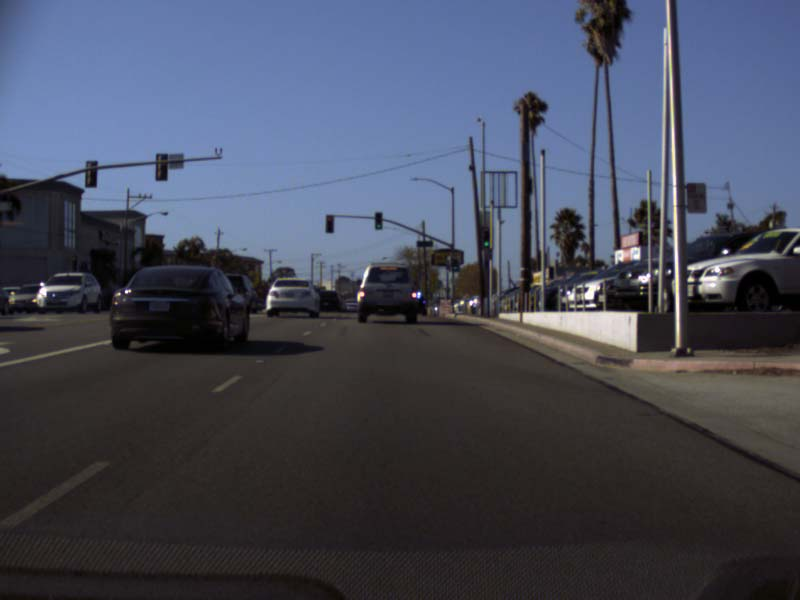Green: (479, 227, 489, 248), (374, 211, 382, 229), (452, 259, 459, 272)
Red: (325, 215, 334, 233)
